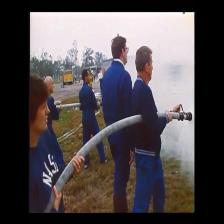smoke: (130, 12, 191, 51)
